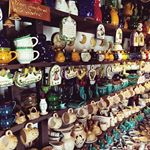cups: (20, 121, 41, 147), (15, 46, 41, 65), (14, 33, 40, 48), (1, 129, 19, 150), (47, 112, 62, 129), (62, 107, 77, 124), (1, 47, 18, 62), (77, 105, 89, 119)
